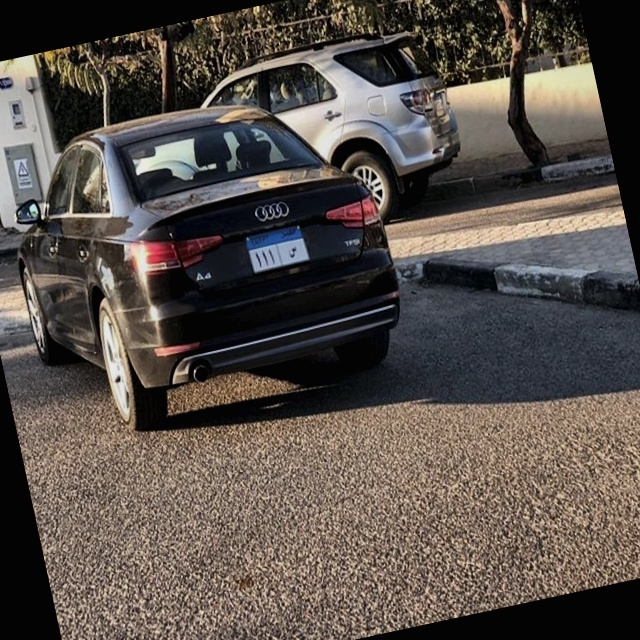License Plate: (243, 219, 312, 275)
